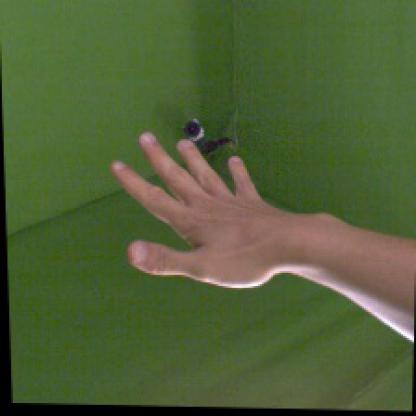Hand: (109, 132, 310, 289)
